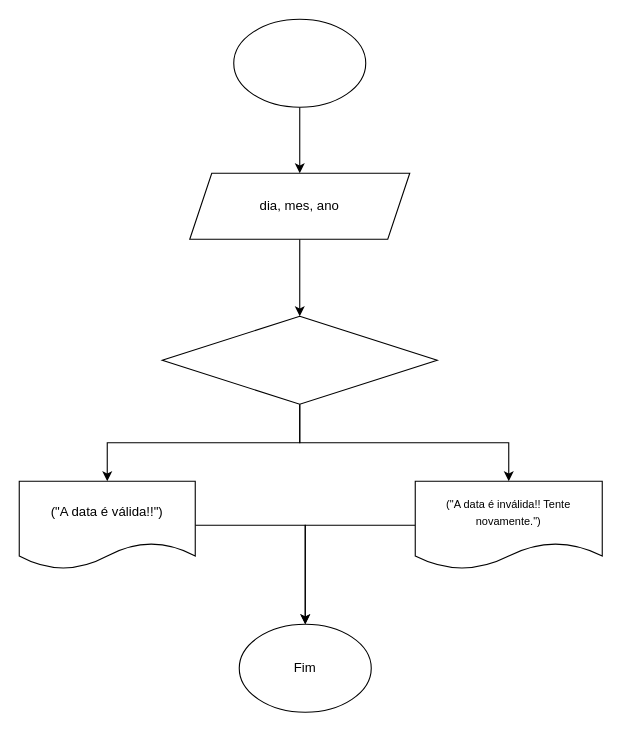
Image size: 622x732. Some labels were removed from this diagram. The shapes that lost their labels are listed below. From the top down, each one's centre as x and y in pixels, then its label:
pixel 299 62: Início
pixel 299 359: (dia>0)e (dia<31) e (mes>0) e (mes<12) e (ano<=2023)
